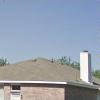Chimney: (69, 40, 96, 83)
